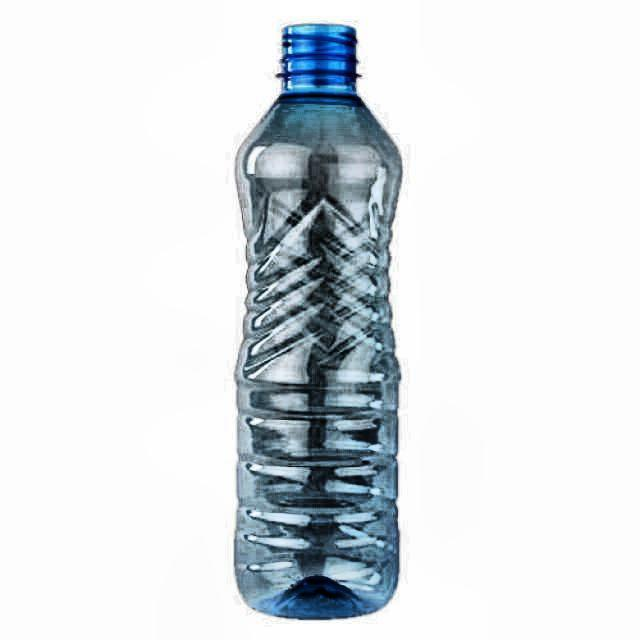plastic: (232, 23, 404, 624)
